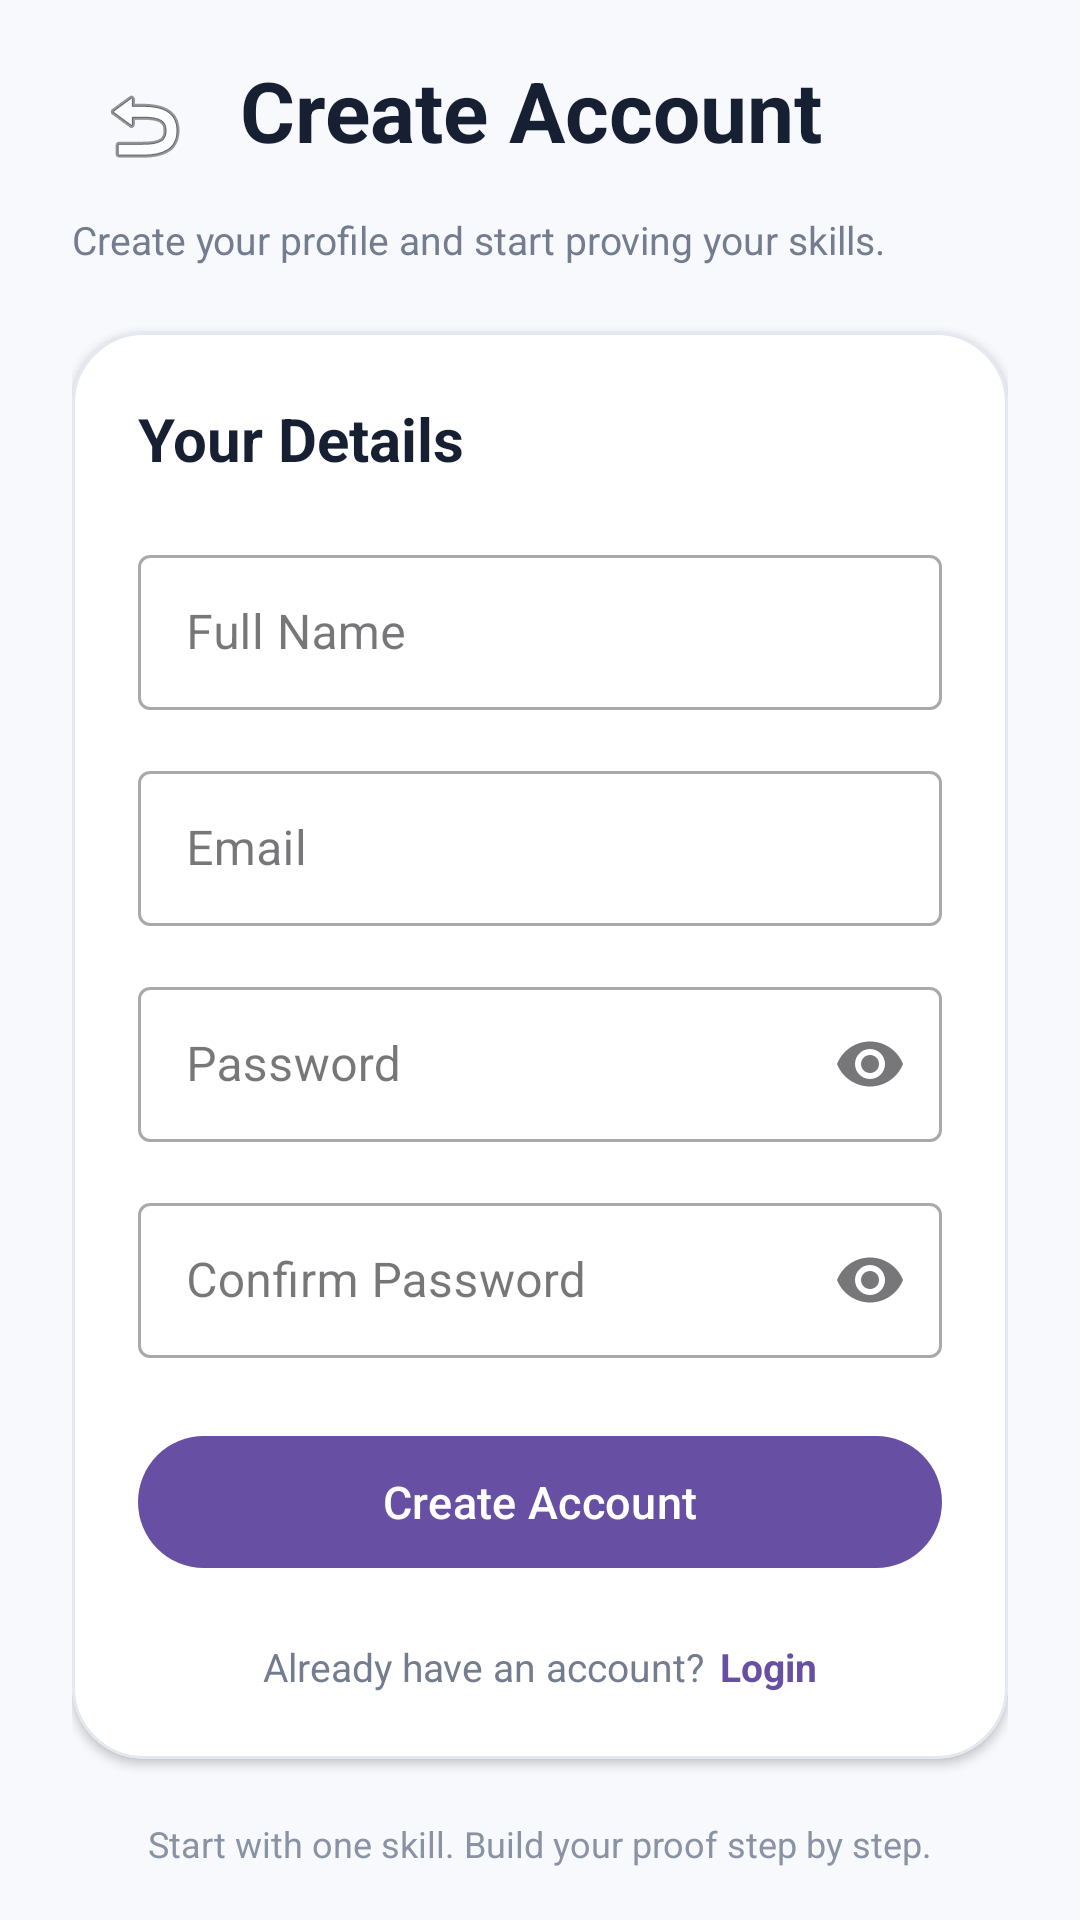

Screen size 1080*1920. Icon name, then its center in pixels as (x=x, y=y):
Back: (x=145, y=126)
